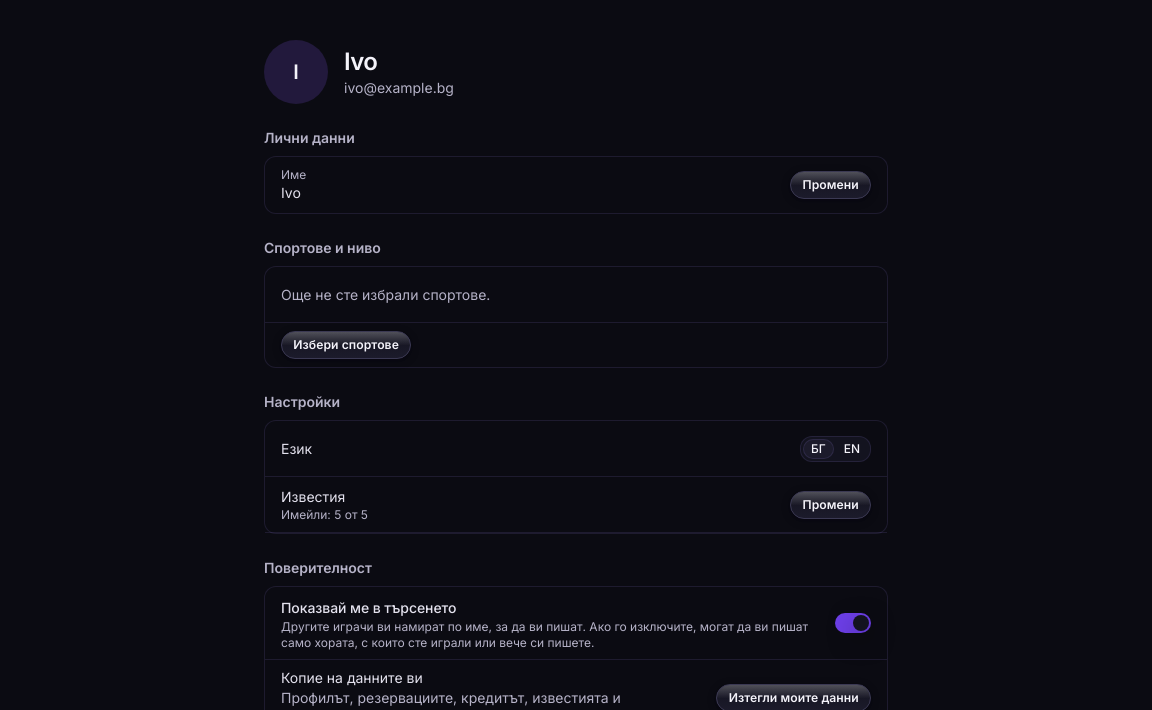
Test: #359: the player sections, between the identity and the settings › a saved name is in the header at once, then the token is refreshed and the page re-read
This screenshot has width=1152, height=710.
Click the 1st button "Промени": (831, 185) [790,171,871,199]
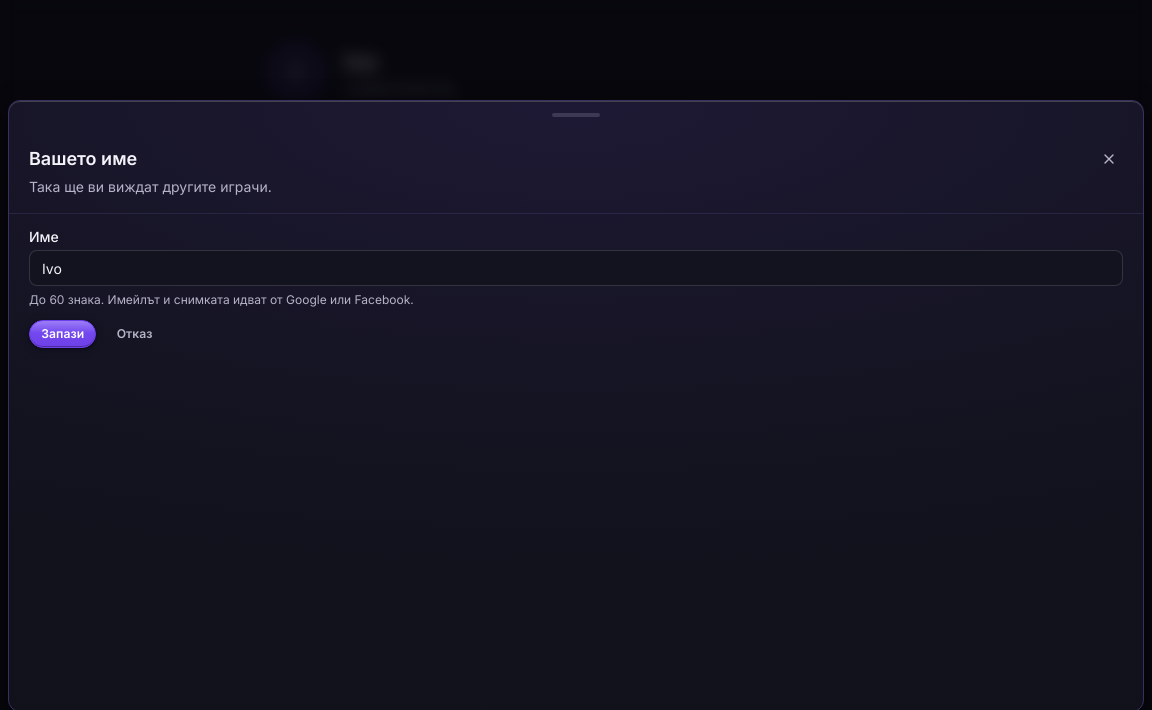
Replace the text in the field labelled "Име" with "Иво Иванов": (576, 268) [29,250,1123,286]
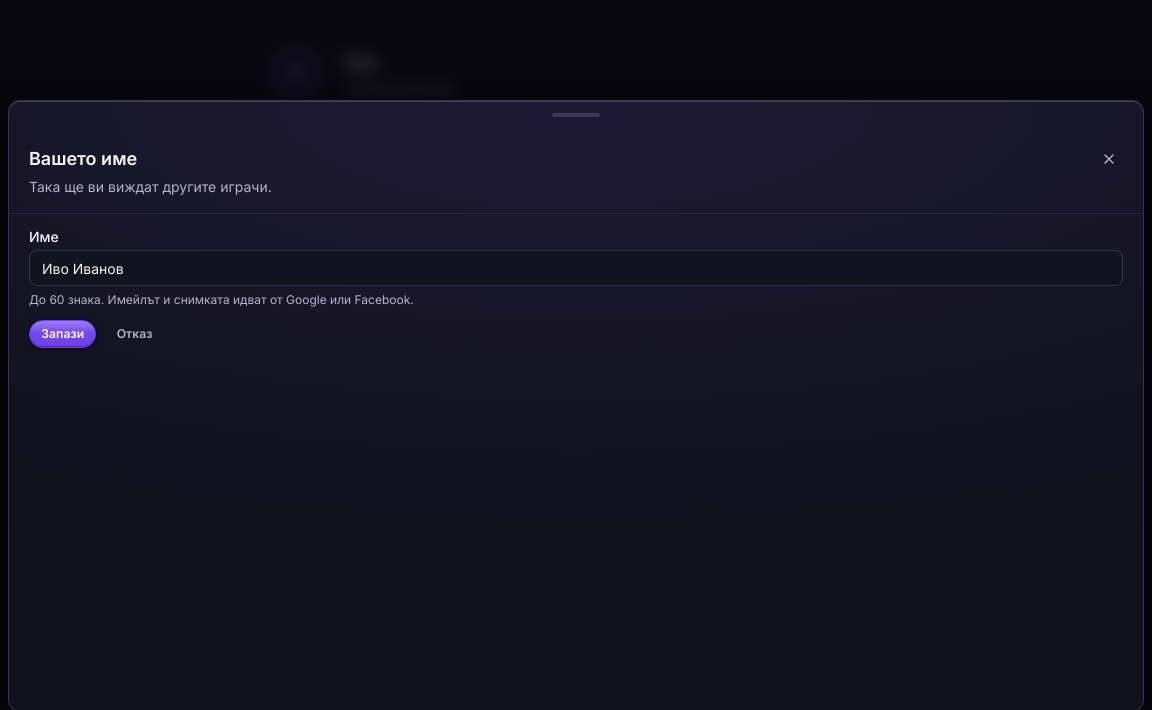
Click the button "Запази": (63, 334) [29,320,96,348]
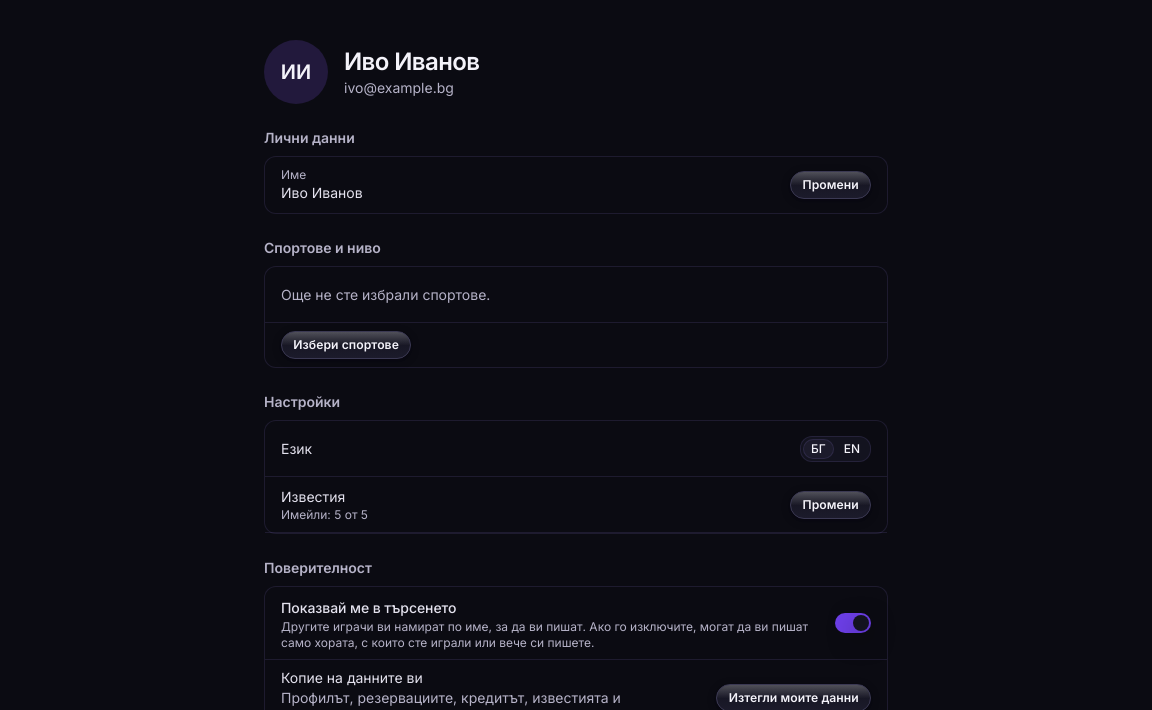
Result: the heading "Иво Иванов" is shown at [344,46,479,78]
